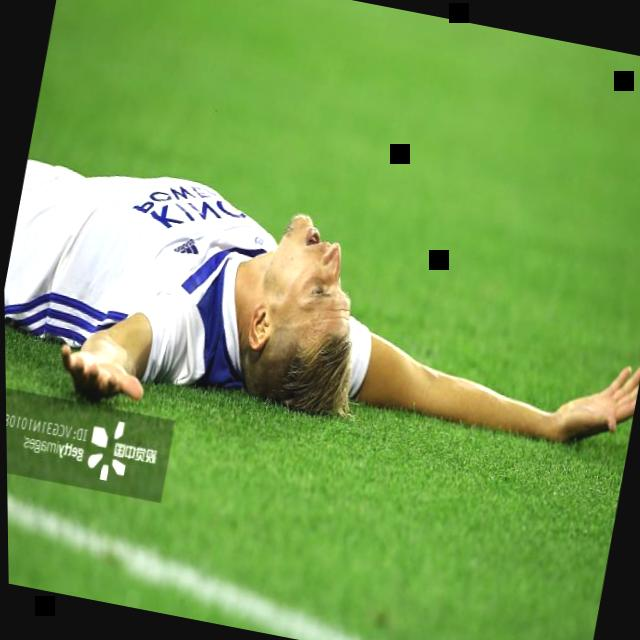Fall-Detected: (1, 89, 640, 501)
